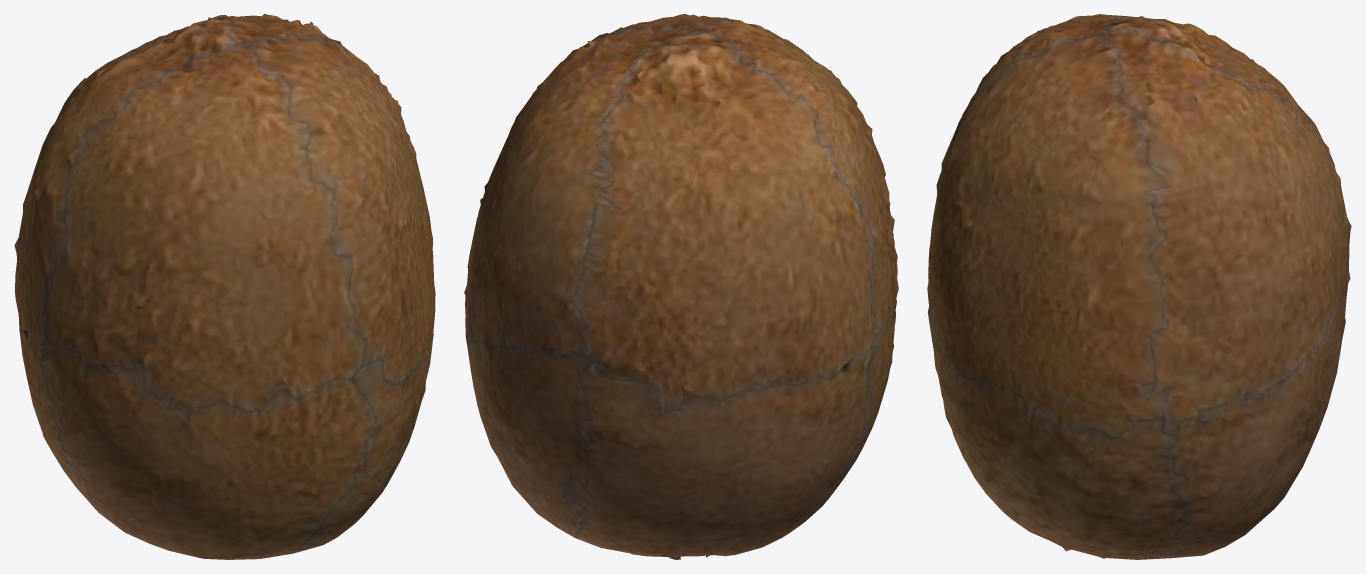
Rendered from food_kiwi_01.glb.
The picture shows the model from 3 angles, left to right: view 1: azimuth 30°, elevation 25°; view 2: azimuth 150°, elevation 25°; view 3: azimuth 270°, elevation 25°; orthographic projection.
Parts seen in each view (by area): view 1: food_kiwi_01; view 2: food_kiwi_01; view 3: food_kiwi_01.
Boxes of the visible parts, x1,y1,x2,y2 form: food_kiwi_01: (14,14,435,559); food_kiwi_01: (464,14,898,559); food_kiwi_01: (927,14,1351,559).
Bounding box in the file's own units: 0.0695 × 0.0901 × 0.0686.
Materials: 1 (1 with a texture image).
